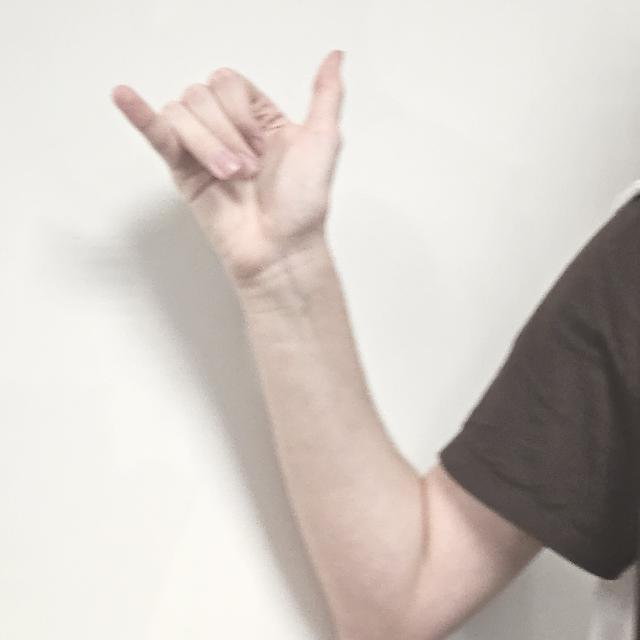Direita: (112, 43, 340, 251)
